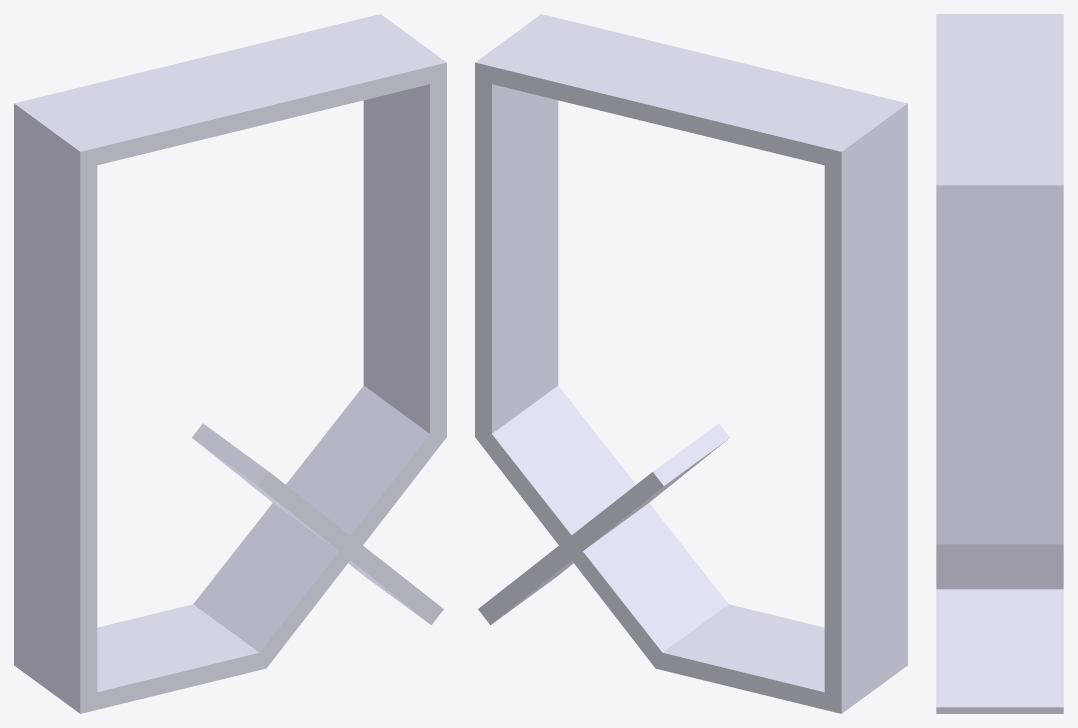
The model's file is cb238aa7-fcfb-4364-b22c-c3cb16f27fdf.glb.
The picture shows the model from 3 angles, left to right: view 1: azimuth 30°, elevation 25°; view 2: azimuth 150°, elevation 25°; view 3: azimuth 270°, elevation 25°; orthographic projection. The views are drawn at different scales.
Visible parts, largest first — view 1: q_AlphaProta_Grey; view 2: q_AlphaProta_Grey; view 3: q_AlphaProta_Grey.
Boxes of the visible parts, box(x1,y1,x2,y2) form: q_AlphaProta_Grey: box(14, 14, 446, 713); q_AlphaProta_Grey: box(475, 14, 907, 713); q_AlphaProta_Grey: box(936, 14, 1063, 713).
Size of what is drawn, in the model's own units: 0.1436 by 0.2105 by 0.045.
Materials: 2 (2 with a texture image).
